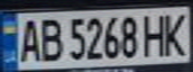2: (84, 14, 106, 61)
5: (63, 15, 87, 61)
6: (103, 12, 124, 60)
8: (118, 12, 142, 60)
A: (15, 16, 42, 63)
B: (36, 15, 63, 63)
H: (139, 11, 169, 57)
K: (160, 9, 193, 57)
